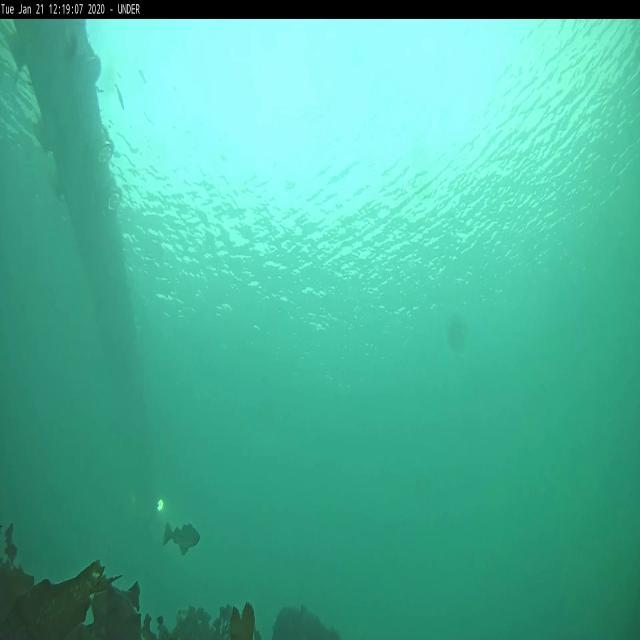fish: (162, 520, 202, 554)
